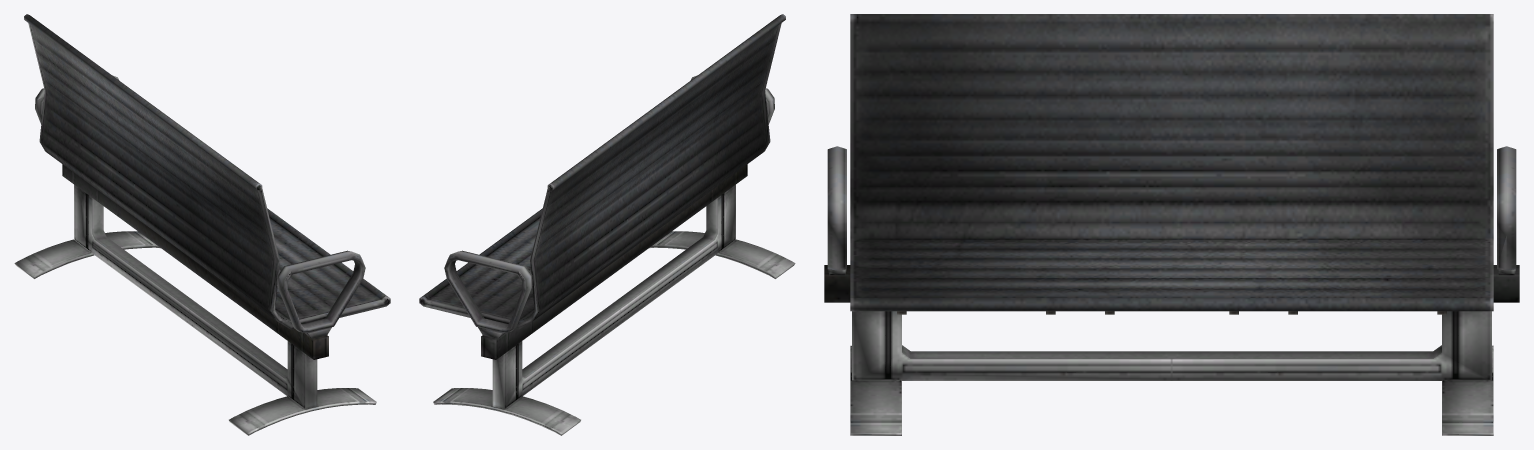
File: Bench02.FBX
3 views of the same model, side by side, from view 1: azimuth 30°, elevation 25°; view 2: azimuth 150°, elevation 25°; view 3: azimuth 270°, elevation 25° (orthographic). The views are drawn at different scales.
Visible parts, largest first — view 1: Bench02; view 2: Bench02; view 3: Bench02.
Part boxes in pixels (x1,y1,x2,y2): Bench02: (14,14,390,435); Bench02: (419,14,795,435); Bench02: (824,14,1519,435).
Bounding box in the file's own units: 0.6576 × 1.09 × 2.
